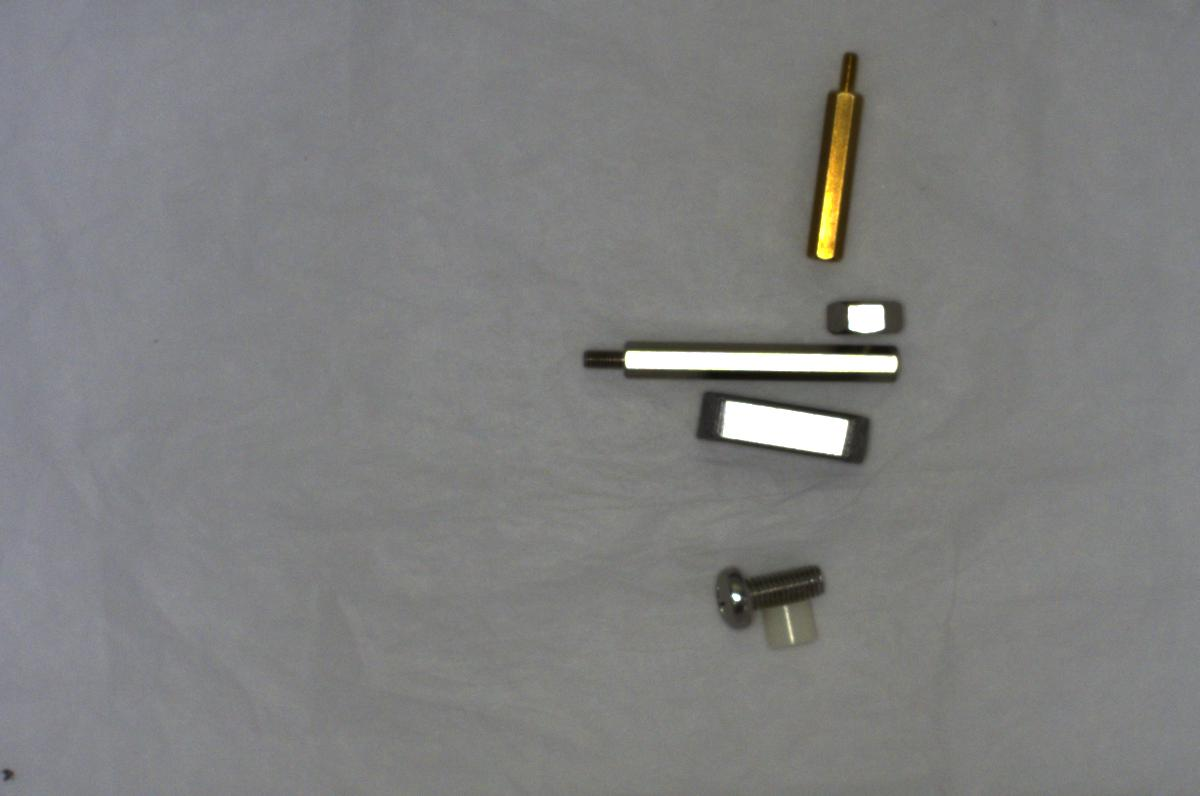Hexagon nut: (826, 285, 910, 344)
Hexagon pillar: (791, 41, 870, 272)
Hexagonal steel column: (571, 326, 907, 395)
Keybar: (679, 383, 866, 472)
Plastic cushion pillar: (757, 595, 821, 660)
Round head screw: (698, 555, 830, 630)
